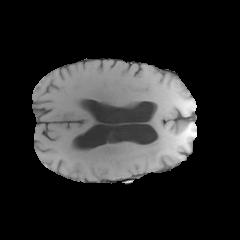glioma: (65, 96, 195, 169)
